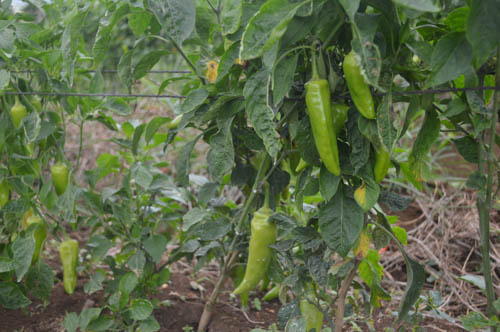ChiliPepper: (230, 207, 277, 295), (304, 82, 343, 178), (343, 53, 376, 120), (56, 243, 82, 292), (46, 165, 69, 192), (9, 105, 29, 127)
